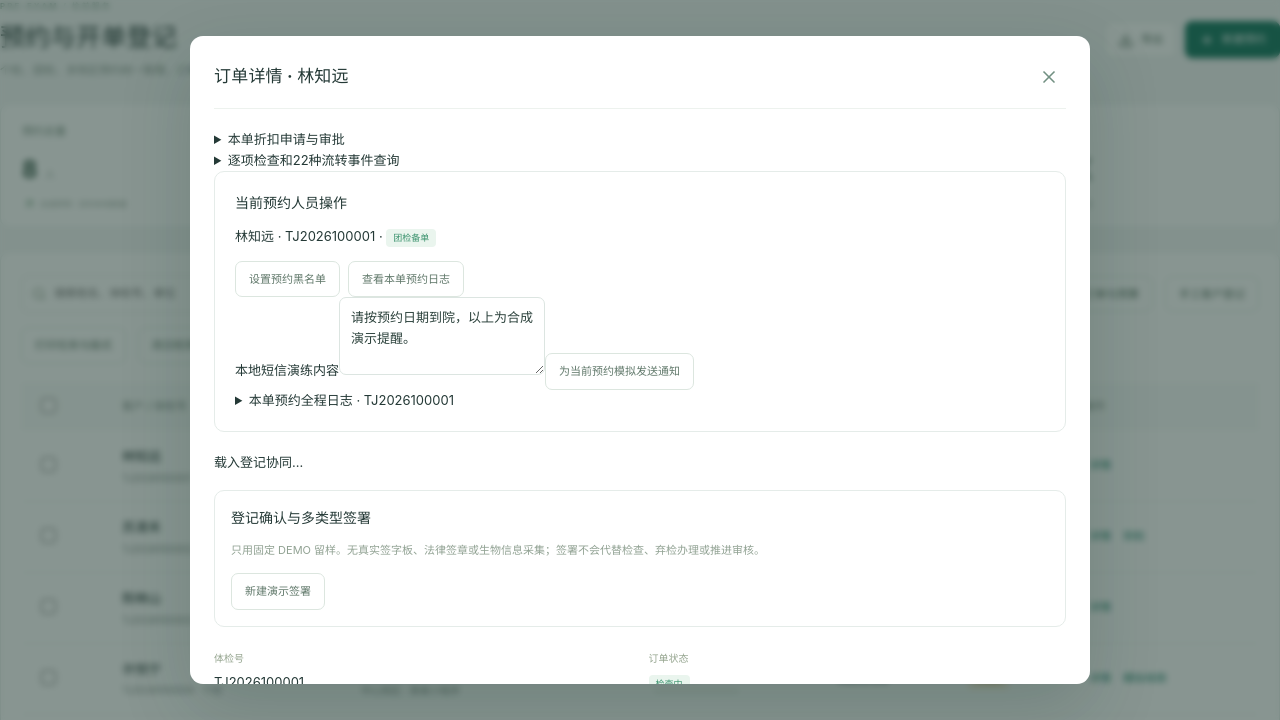
Test: advanced frontend scenarios › A07 appointment date filter and direct selected link work
Step 1. Click the button named "关闭" → click(1049, 77), box 1032,60 -> 1066,94
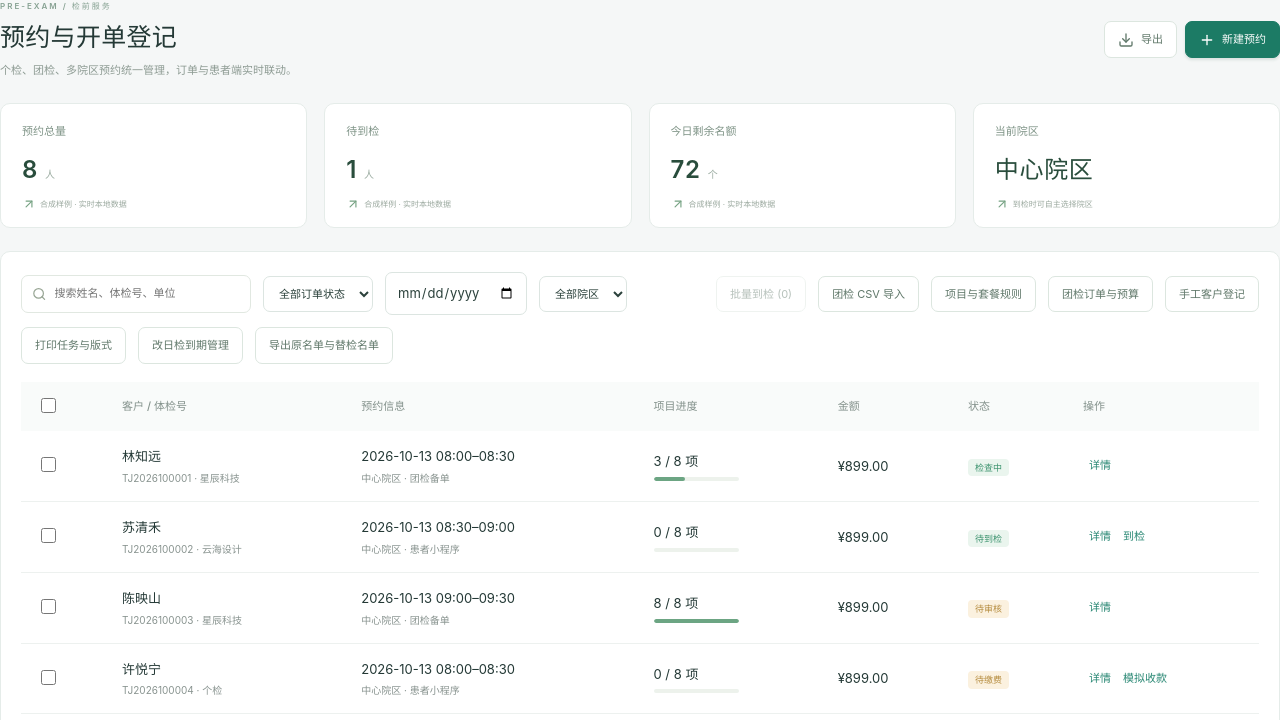
Step 2. Type "2099-01-01" into the date field named "筛选预约日期" → (456, 294), box 385,272 -> 527,315
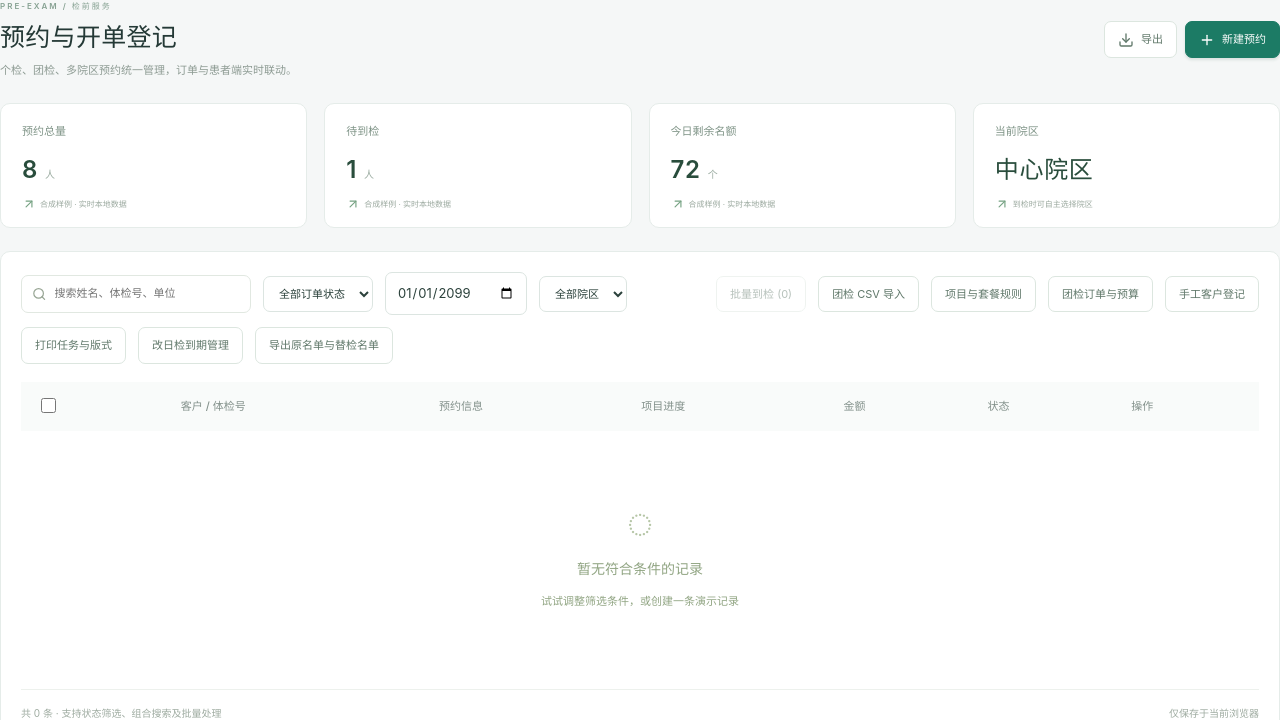
Check: the heading "暂无符合条件的记录" is shown, box 577,560 -> 703,577
